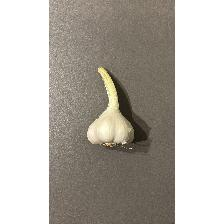Knoblauch: (86, 66, 138, 150)
